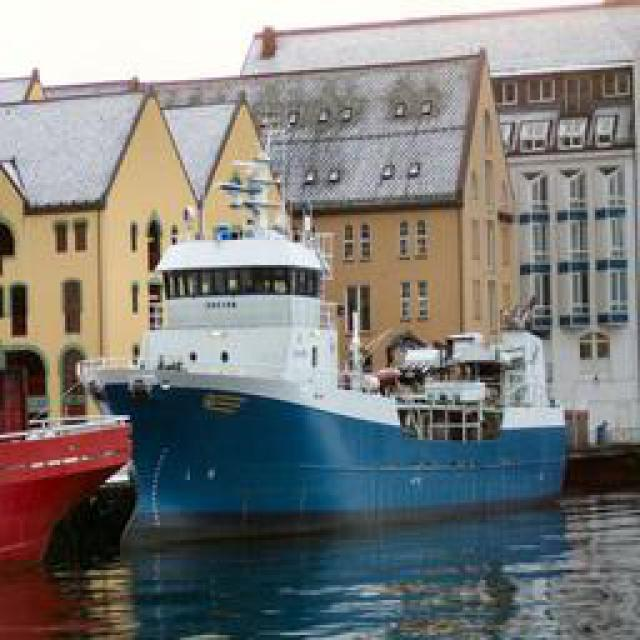Ship: (73, 227, 571, 527)
